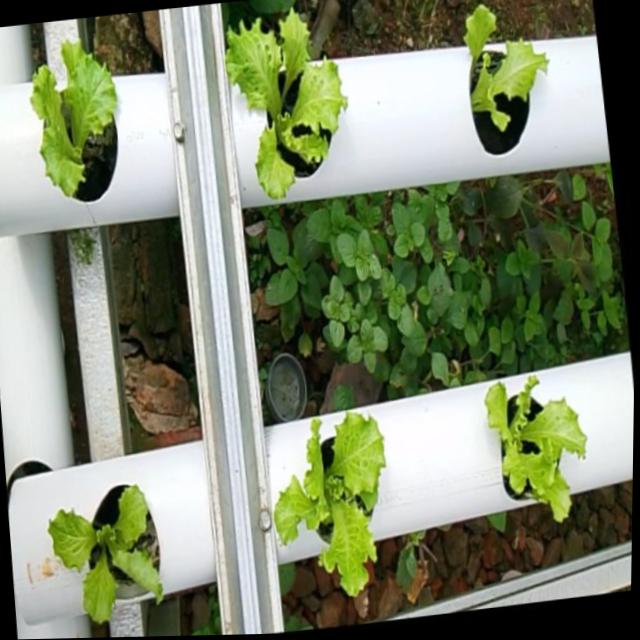Baby: (224, 3, 345, 196), (271, 408, 382, 592), (45, 478, 160, 618), (481, 374, 582, 520), (29, 36, 116, 198), (462, 6, 545, 156)
